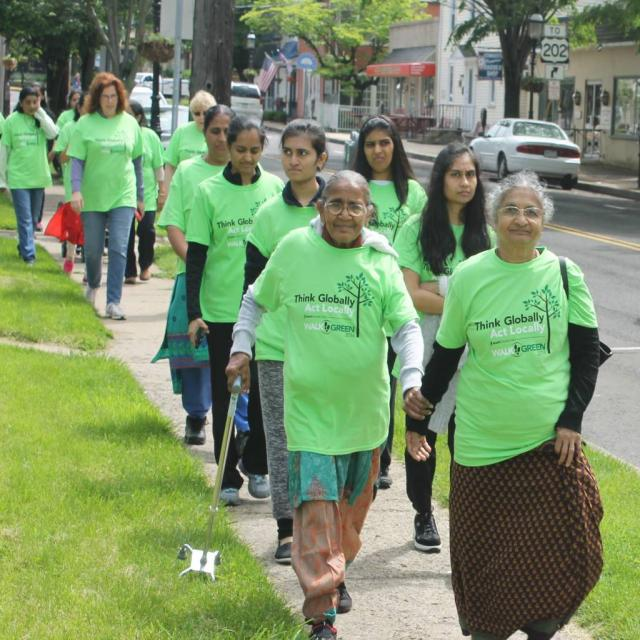body: (401, 164, 616, 639), (223, 166, 437, 639), (389, 139, 500, 554), (181, 112, 287, 510), (239, 116, 330, 567), (148, 103, 254, 459), (349, 112, 429, 490), (64, 68, 146, 326), (0, 83, 62, 270), (51, 91, 94, 287), (124, 97, 168, 285), (11, 81, 58, 233), (161, 88, 218, 205), (53, 89, 83, 178), (0, 104, 9, 206), (70, 72, 82, 89)
